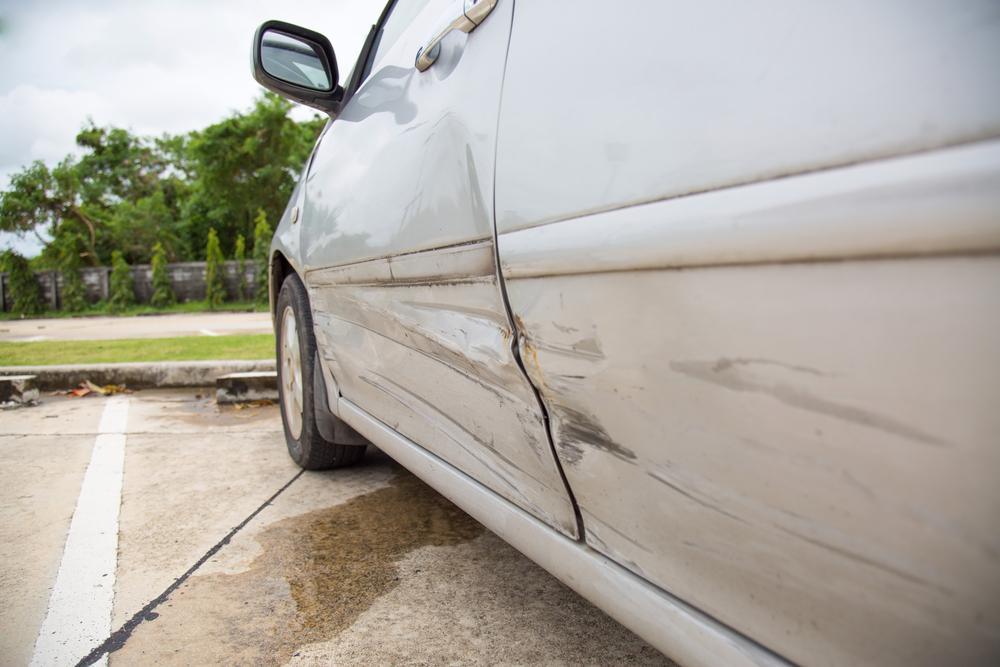dent: (309, 284, 580, 541), (520, 285, 620, 470), (402, 115, 491, 254)
scratch: (558, 350, 1000, 625)
